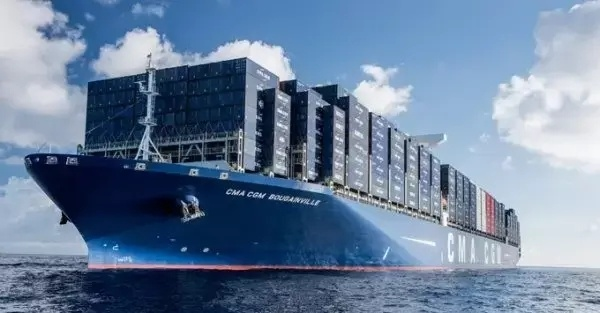Cargoship: (17, 49, 525, 269)
